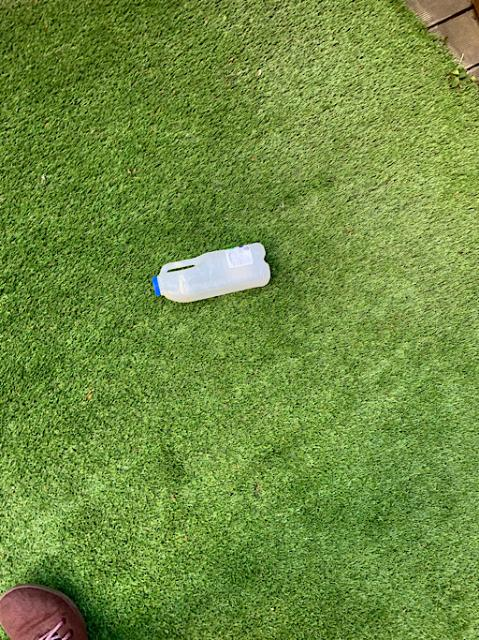plastic: (151, 242, 269, 301)
